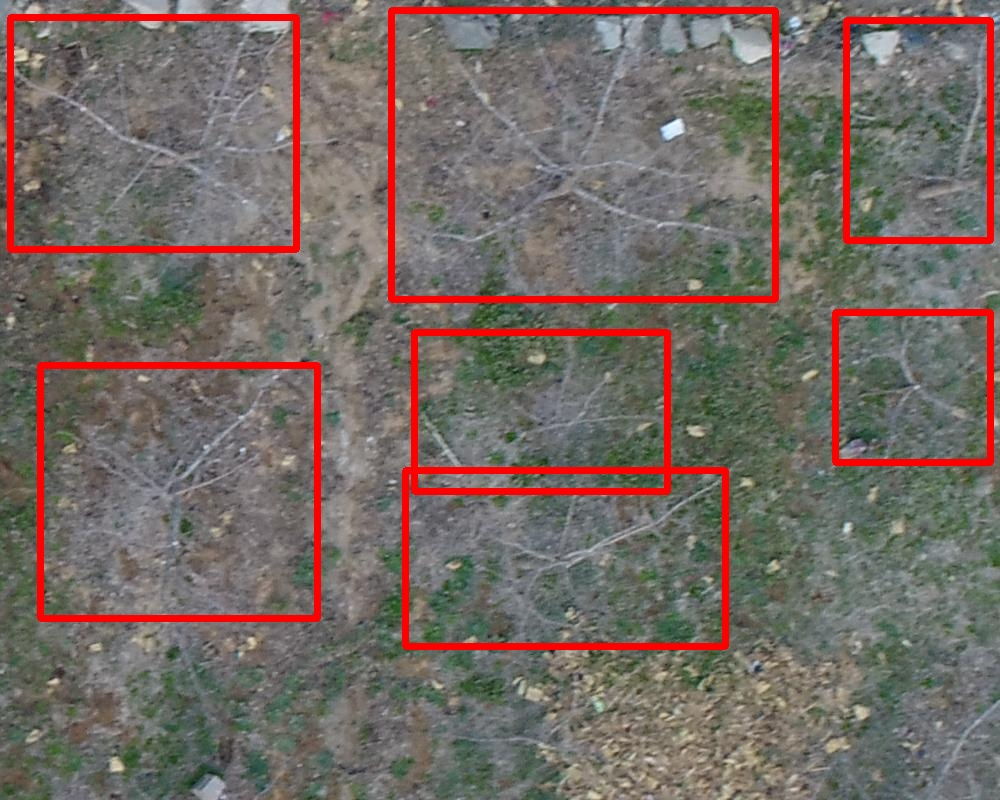apple: (391, 10, 775, 299), (40, 365, 317, 618), (10, 17, 296, 249), (405, 470, 725, 646), (414, 332, 667, 491), (846, 20, 990, 240), (835, 312, 990, 462)
